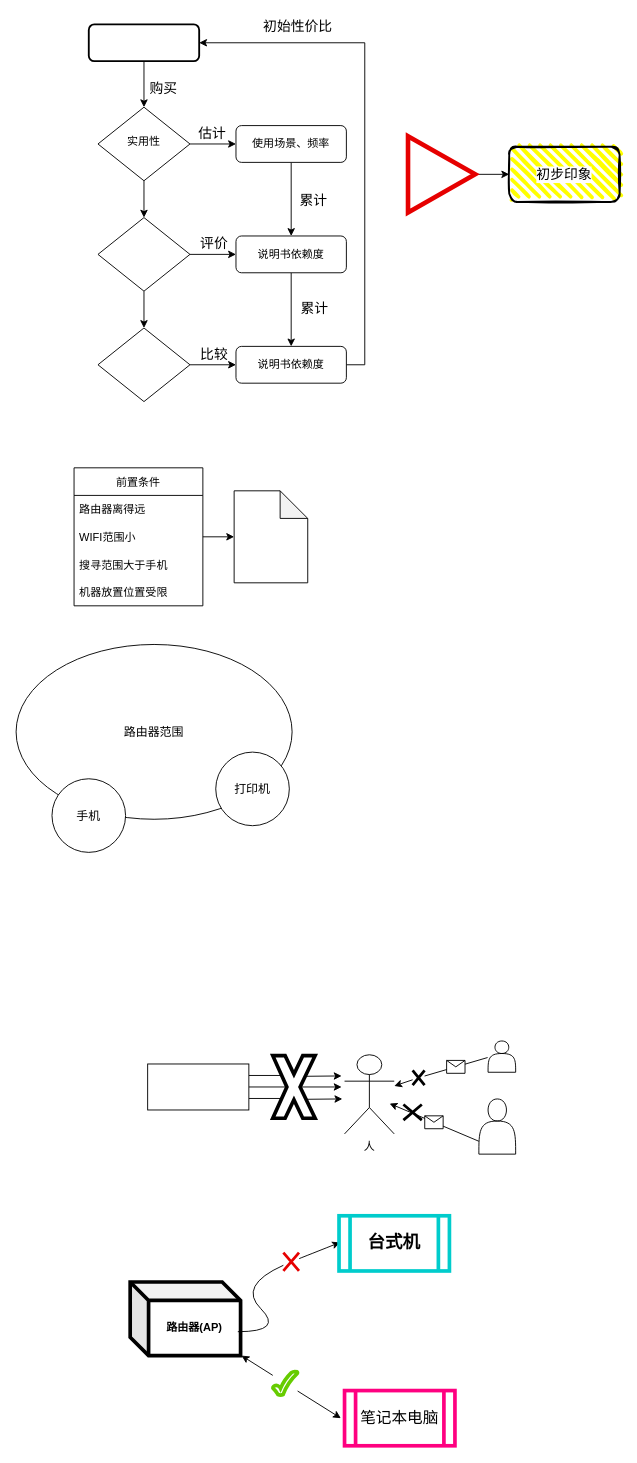
Image size: 637x1463. Some labels were removed from this diagram. Here are the shapes that lost their labels. From the top down, the centre of each, then its label:
At pixel 143 42: "物联网产品".
At pixel 441 173: "寿命".
At pixel 143 254: "上手难度".
At pixel 143 364: "整体价格".
At pixel 270 536: "已断开".
At pixel 198 1086: "宣传广告".
